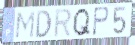5: (112, 5, 128, 35)
D: (35, 10, 53, 40)
M: (14, 11, 36, 40)
P: (92, 6, 110, 37)
Q: (71, 7, 91, 38)
R: (52, 7, 73, 40)
